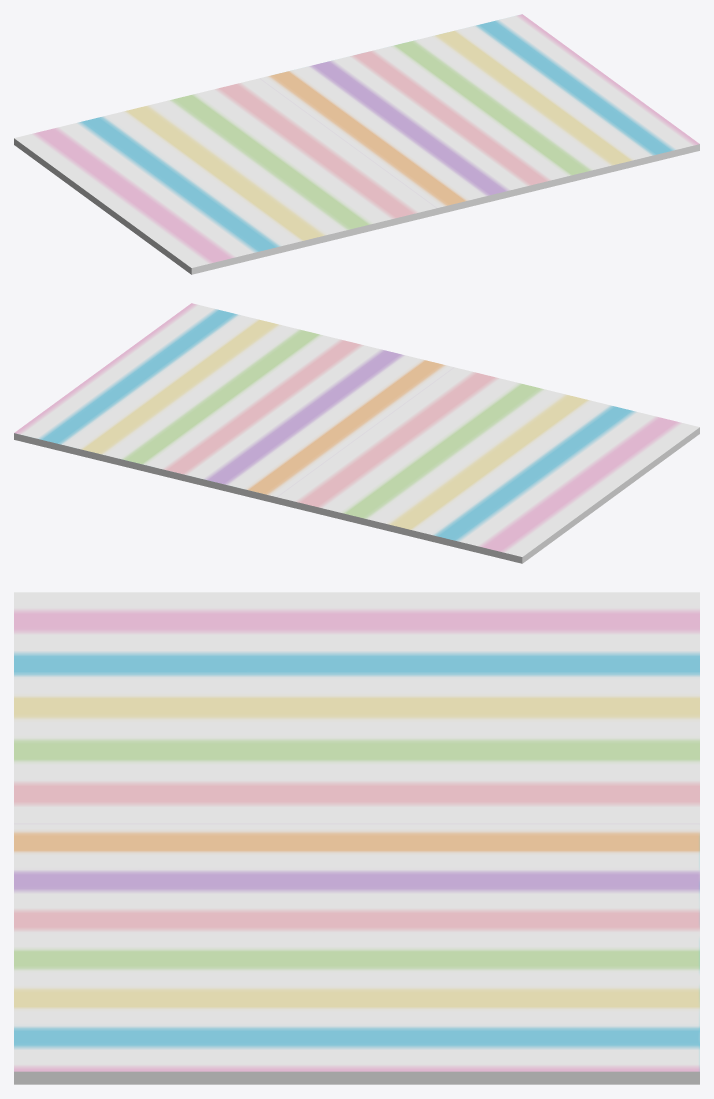
The picture shows the model from 3 angles, top to bottom: view 1: azimuth 30°, elevation 25°; view 2: azimuth 150°, elevation 25°; view 3: azimuth 270°, elevation 25°; orthographic projection. The views are drawn at different scales.
Parts seen in each view (by area): view 1: Mat_B; view 2: Mat_B; view 3: Mat_B.
Part boxes in pixels (box(x1,y1,x2,y2)): Mat_B: box(14, 14, 699, 274); Mat_B: box(14, 303, 699, 563); Mat_B: box(14, 592, 699, 1084).
Bounding box in the file's own units: 268 × 3.38 × 162.
